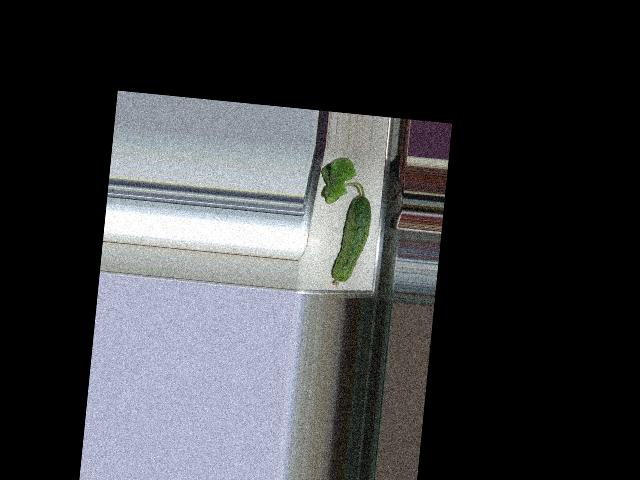cucumber: (330, 192, 373, 288)
